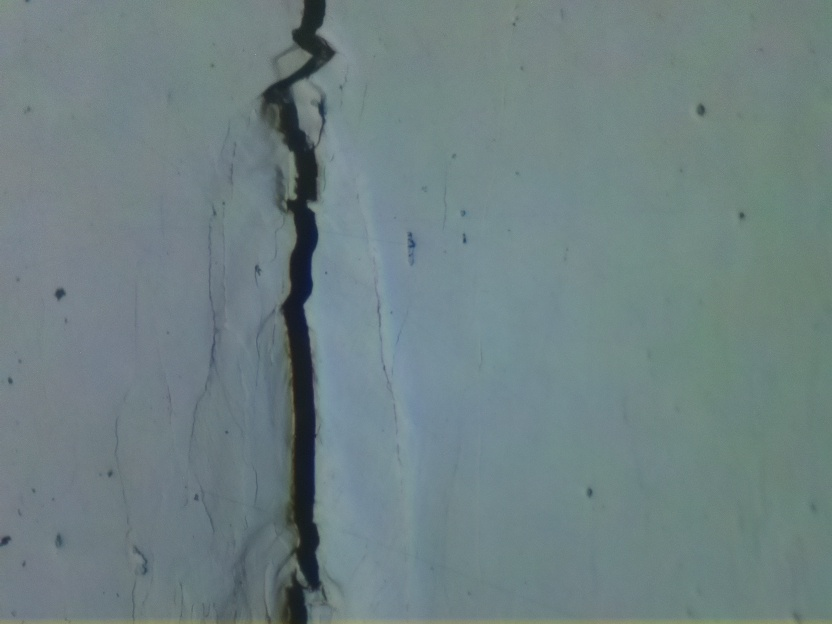crack: (261, 0, 338, 624)
